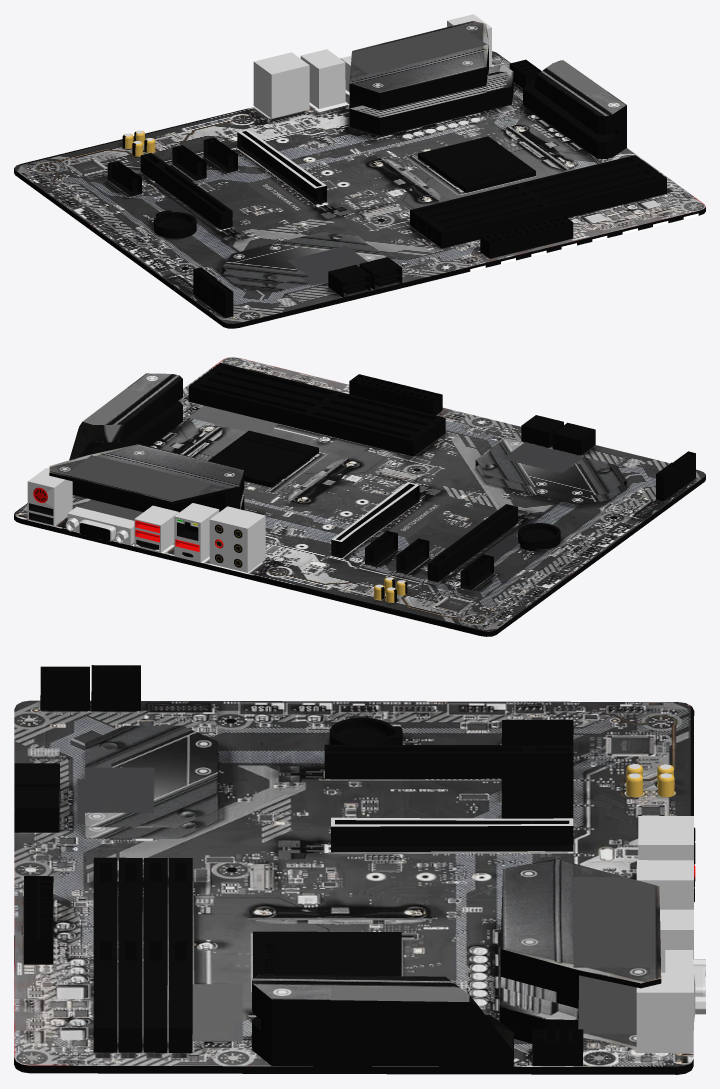
Rendered from mb-msi-b650-gaming-plus_lod1.glb.
3 renders of one model, top to bottom at view 1: azimuth 30°, elevation 25°; view 2: azimuth 150°, elevation 25°; view 3: azimuth 270°, elevation 25°, orthographic. The views are drawn at different scales.
Parts seen in each view (by area): view 1: body; view 2: body; view 3: body.
Part boxes in pixels (x1,y1,x2,y2): body: (14,14,705,328); body: (14,357,705,636); body: (14,665,705,1074).
Bounding box in the file's own units: 0.305 × 0.0306 × 0.244.
Materials: 9 (1 with a texture image).
